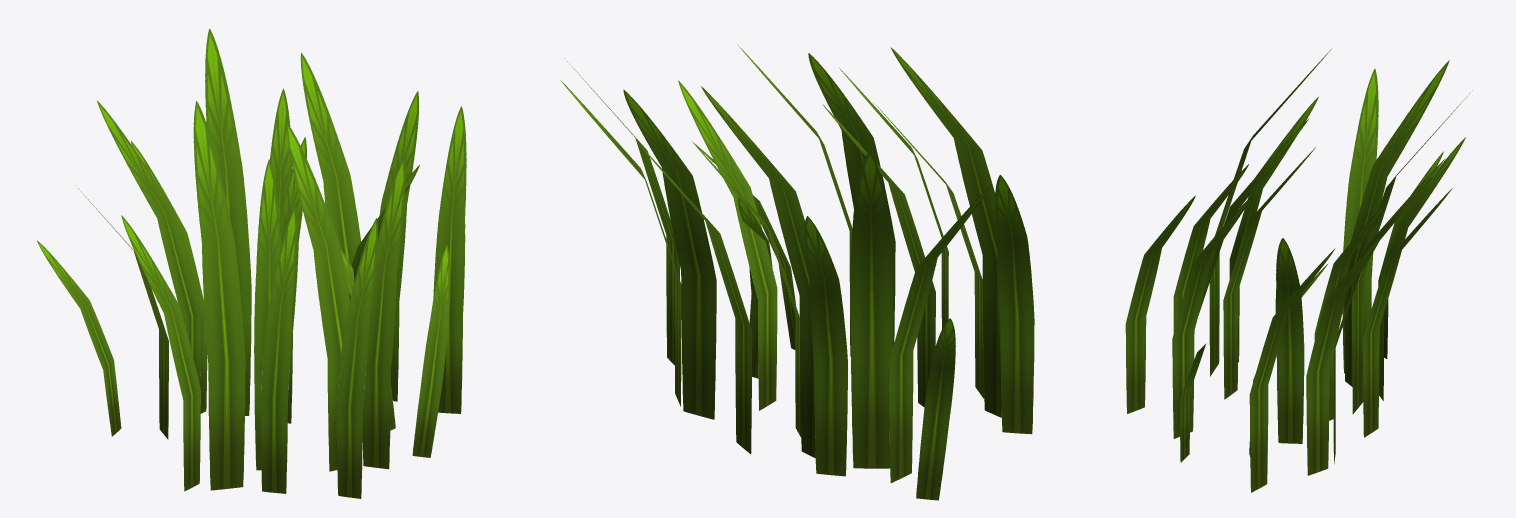
File: Grass_04b.FBX
The picture shows the model from 3 angles, left to right: view 1: azimuth 30°, elevation 25°; view 2: azimuth 150°, elevation 25°; view 3: azimuth 270°, elevation 25°; orthographic projection. The views are drawn at different scales.
Visible parts, largest first — view 1: Grass_04b; view 2: Grass_04b; view 3: Grass_04b.
Boxes of the visible parts, bbox=[...] form: Grass_04b: bbox=[37, 28, 466, 498]; Grass_04b: bbox=[560, 44, 1034, 500]; Grass_04b: bbox=[1125, 49, 1472, 492].
Size of the model in its own units: 18.28 by 14.08 by 14.51.
Materials: 1 (1 with a texture image).
